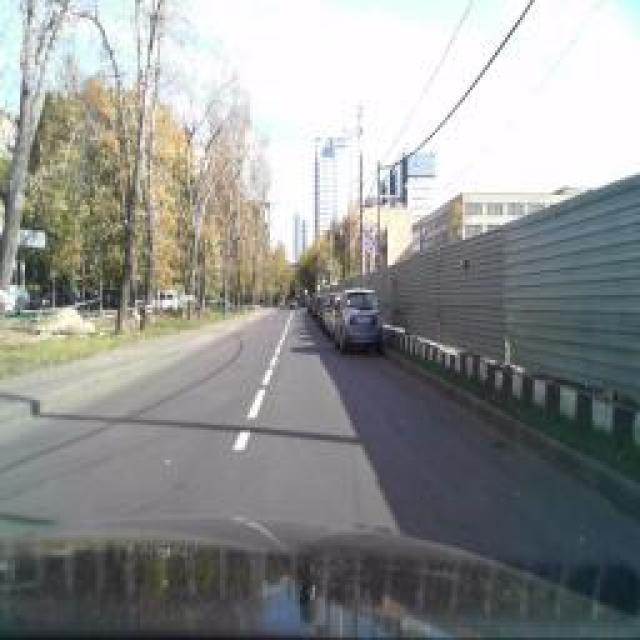sign: (365, 233, 377, 255)
